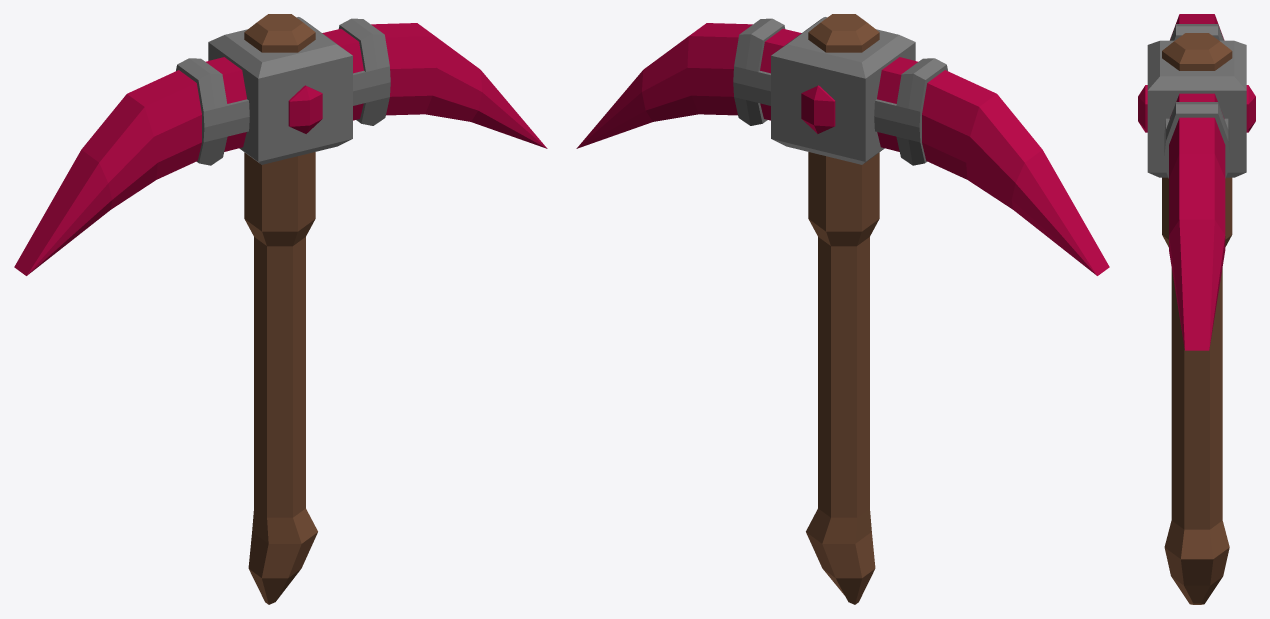
File: EtheriumPickaxe.fbx
The picture shows the model from 3 angles, left to right: view 1: azimuth 30°, elevation 25°; view 2: azimuth 150°, elevation 25°; view 3: azimuth 270°, elevation 25°; orthographic projection.
Parts seen in each view (by area): view 1: Cube.004; view 2: Cube.004; view 3: Cube.004.
Boxes of the visible parts, left/top/right/bottom form: Cube.004: left=14, top=14, right=547, bottom=604; Cube.004: left=576, top=14, right=1109, bottom=604; Cube.004: left=1138, top=14, right=1255, bottom=604.
Bounding box in the file's own units: 386 × 409 × 76.63.
